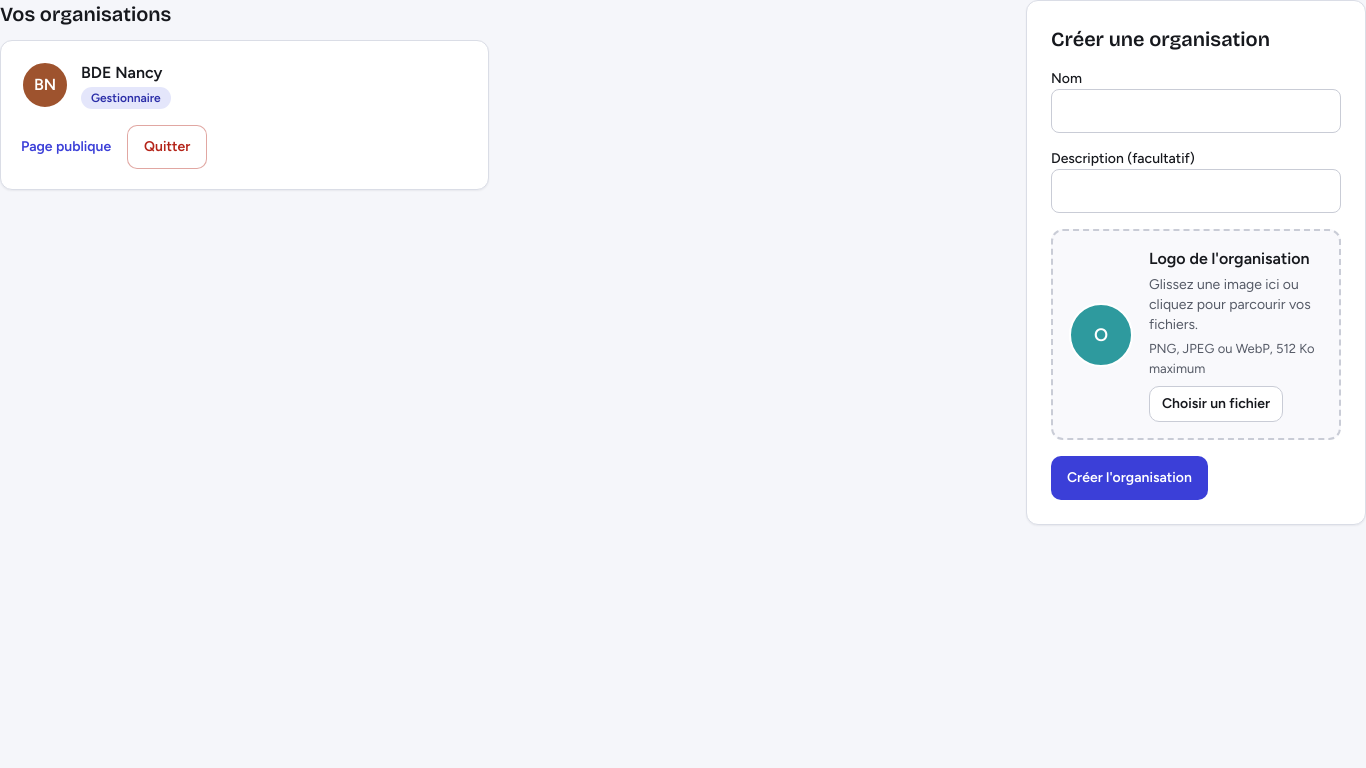
OrganizationsOverview › translates the refusal when the creator cannot leave yet
Click the button with aria-label "Quitter BDE Nancy" at (167, 147), box x1=127 y1=125 x2=207 y2=169
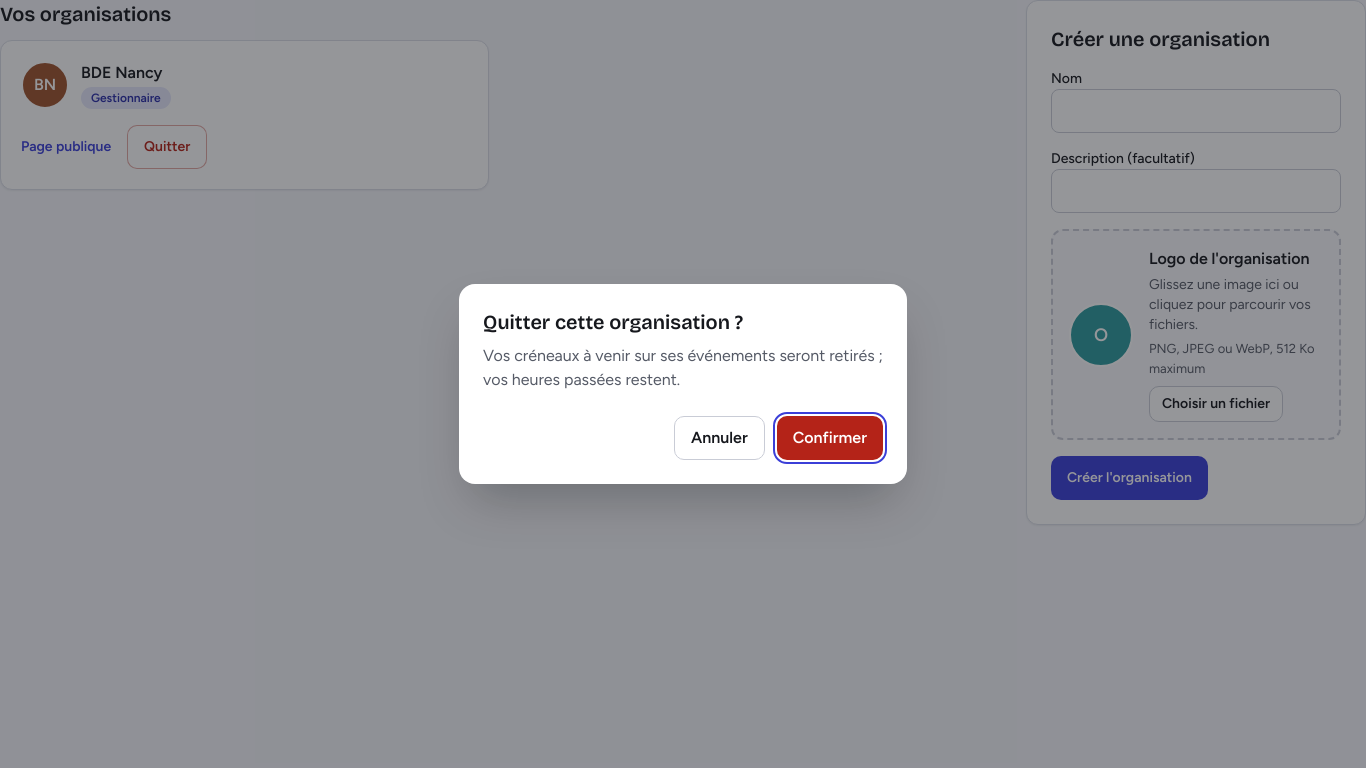
Click the button "Confirmer" at (830, 438), box x1=777 y1=416 x2=883 y2=460
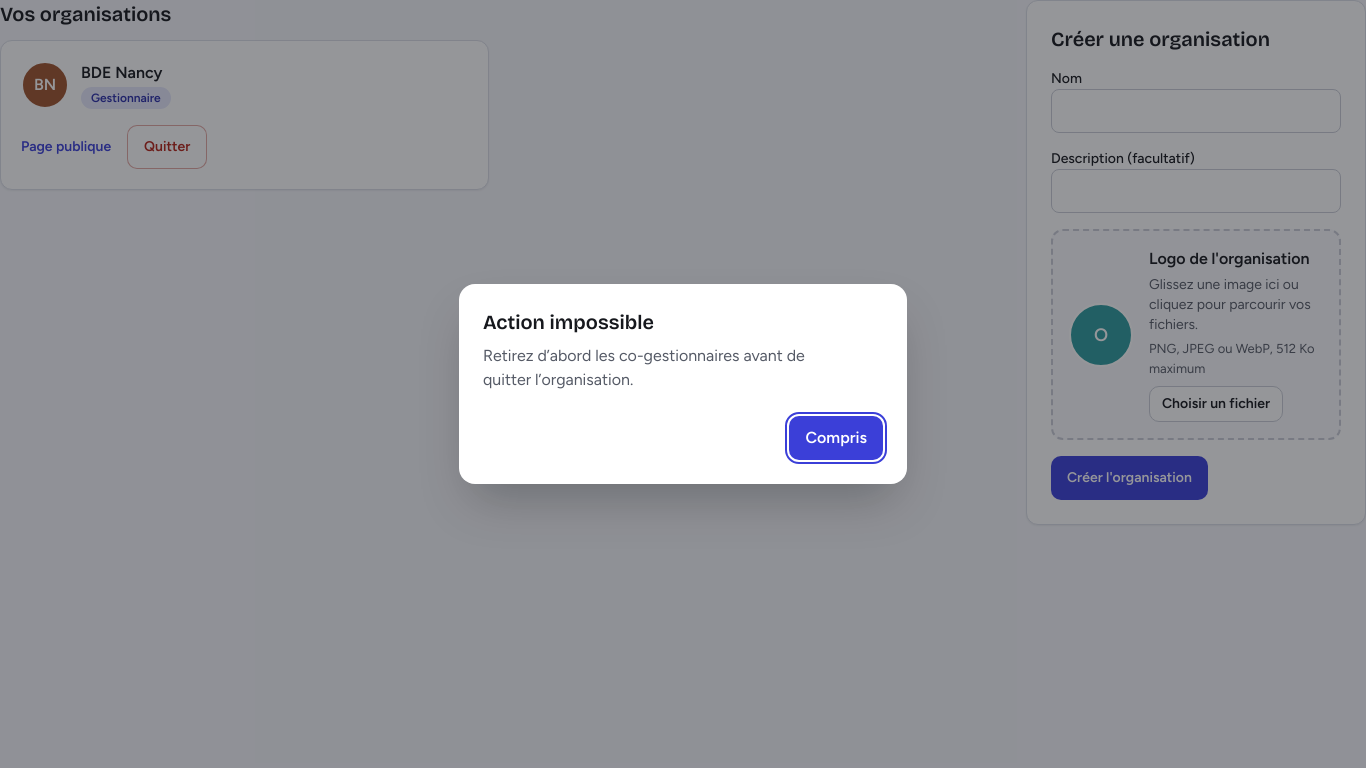
Expected: the dialog shows "co-gestionnaires", x1=483 y1=346 x2=805 y2=389
